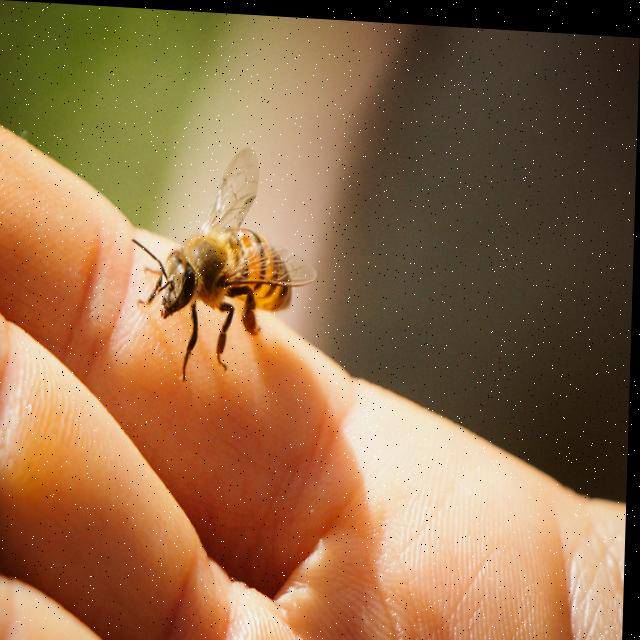Apis-mellifera-scutellata: (141, 141, 332, 412)
